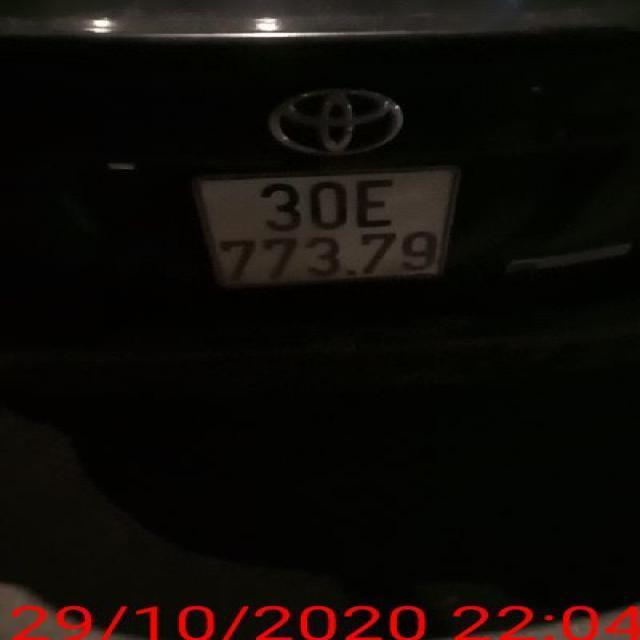bien_so_oto: (190, 164, 460, 288)
